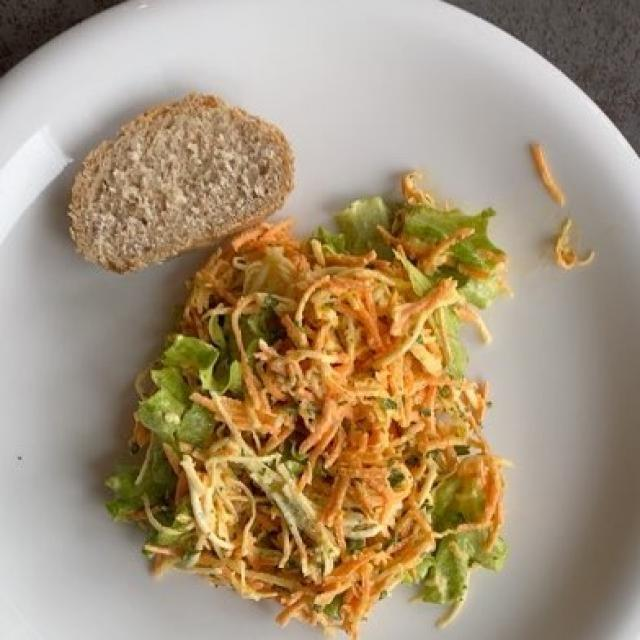bread: (69, 97, 290, 268)
carrot: (115, 183, 507, 623)
salad: (106, 180, 498, 612)
